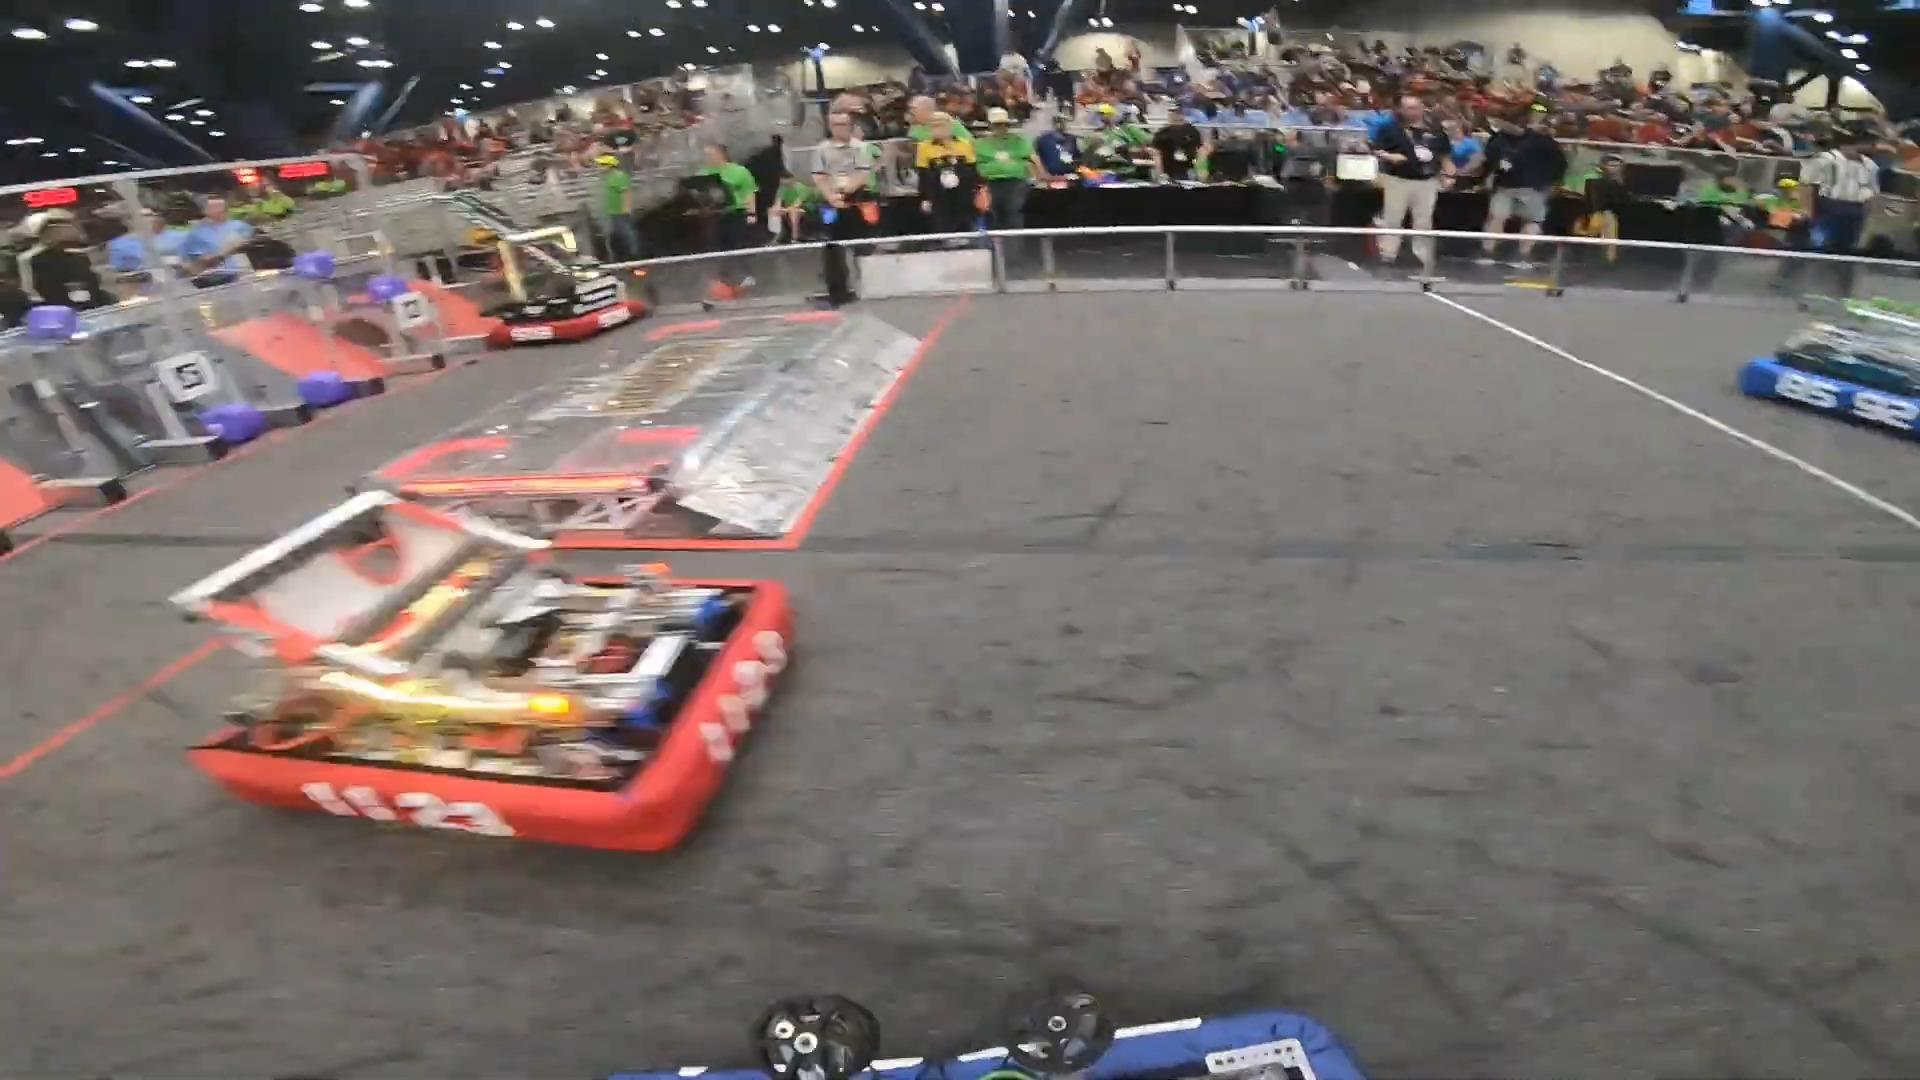robot: (164, 473, 794, 853), (1739, 286, 1920, 442), (473, 189, 647, 347)
